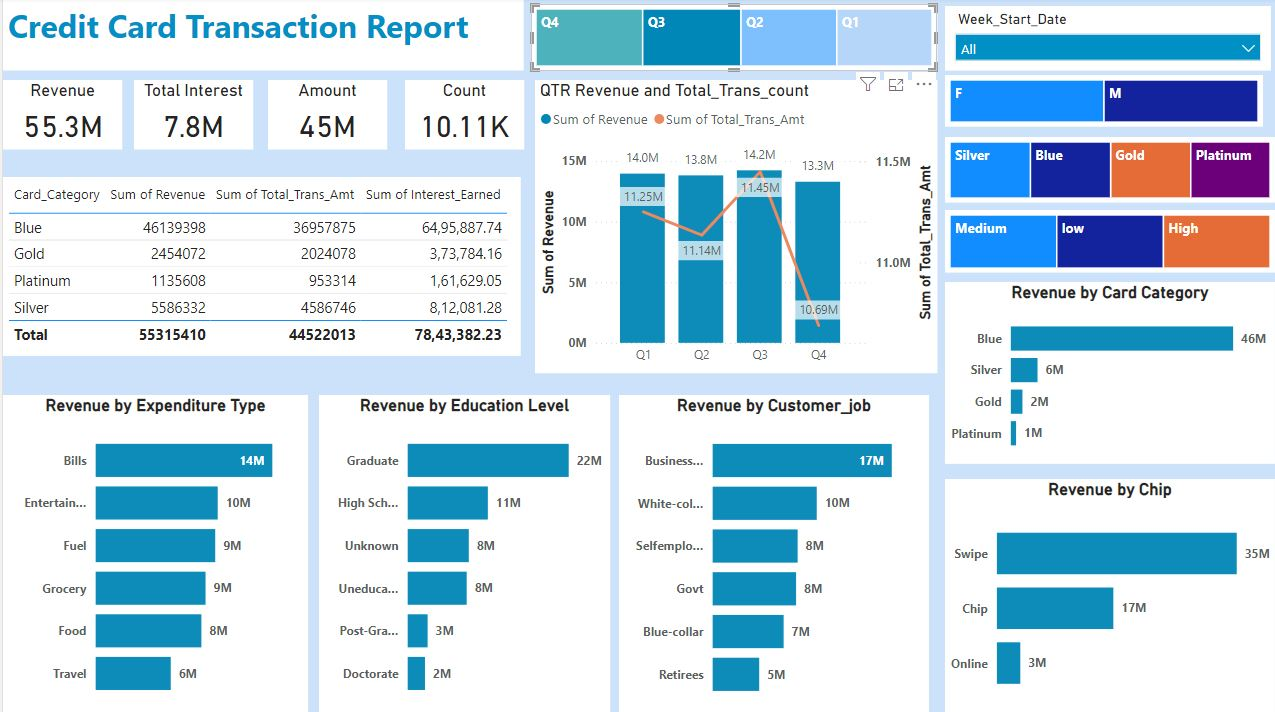

The dashboard page shown, as its layout file describes it:
{"tool":"powerbi","page":{"name":"CC Transaction","canvas":[1280,720],"ordinal":1},"visuals":[{"type":"textbox","box":[0,0,524.3,73.5],"z":0},{"type":"lineStackedColumnComboChart","title":"QTR Revenue and Total_Trans_count","fields":{"Category":["cc_detail.Qtr"],"Y":["Sum(cc_detail.Revenue)"],"Y2":["Sum(cc_detail.Total_Trans_Amt)"]},"box":[535.3,82.5,404.5,294.8],"z":1000},{"type":"barChart","title":"Revenue by Expenditure Type","fields":{"Y":["Sum(cc_detail.Revenue)"],"Category":["cc_detail.Exp Type"]},"box":[0,399.5,306.9,320],"z":2000},{"type":"barChart","title":"Revenue by Education Level","fields":{"Y":["Sum(cc_detail.Revenue)"],"Category":["cust_detail csv.Education_Level"]},"box":[318,399.5,292.8,320],"z":3000},{"type":"barChart","title":"Revenue by Customer_job","fields":{"Y":["Sum(cc_detail.Revenue)"],"Category":["cust_detail csv.Customer_Job"]},"box":[619.9,399.5,311.9,321],"z":4000},{"type":"barChart","title":"Revenue by Chip","fields":{"Y":["Sum(cc_detail.Revenue)"],"Category":["cc_detail.Use Chip"]},"box":[947.9,484,332.1,235.5],"z":5000},{"type":"barChart","title":"Revenue by Card Category","fields":{"Y":["Sum(cc_detail.Revenue)"],"Category":["cc_detail.Card_Category"]},"box":[947.9,285.8,332.1,183.1],"z":6000},{"type":"tableEx","fields":{"Values":["cc_detail.Card_Category","Sum(cc_detail.Revenue)","Sum(cc_detail.Total_Trans_Amt)","Sum(cc_detail.Interest_Earned)"]},"box":[0,180.1,521.3,180.1],"z":7000},{"type":"card","title":"Revenue","fields":{"Values":["Sum(cc_detail.Revenue)"]},"box":[0,82.5,120,70],"z":8000},{"type":"card","title":"Total Interest","fields":{"Values":["Sum(cc_detail.Interest_Earned)"]},"box":[131.8,82.5,119.7,70.4],"z":9000},{"type":"card","title":"Count","fields":{"Values":["CountNonNull(cc_detail.Total_Trans_Amt)"]},"box":[404.5,82.5,119.7,70.4],"z":10000},{"type":"card","title":"Amount","fields":{"Values":["Sum(cc_detail.Total_Trans_Amt)"]},"box":[266.7,82.5,119.7,70.4],"z":11000},{"type":"slicer","fields":{"Values":["cc_detail.Week_Start_Date"]},"box":[947.9,8.1,328.1,65.4],"z":12000},{"type":"treemap","fields":{"Group":["cc_detail.Qtr"],"Values":["Avg(cc_detail.Client_Num)"]},"box":[531.3,6,408.6,67.4],"z":13000},{"type":"treemap","fields":{"Group":["cust_detail csv.Gender"],"Values":["Avg(cc_detail.Client_Num)"]},"box":[947.9,77.5,320,52.3],"z":14000},{"type":"treemap","fields":{"Values":["Avg(cc_detail.Client_Num)"],"Group":["cc_detail.Card_Category"]},"box":[947.9,139.9,332.1,66.4],"z":15000},{"type":"treemap","fields":{"Values":["Avg(cc_detail.Client_Num)"],"Group":["cust_detail csv.IncomeGroup"]},"box":[947.9,213.3,332.1,63.4],"z":16000}]}

Visuals, with their boxes in screenshot pixels (x1, y1, x2, y2), scaled from the page's 1280x720 canvas onto the 1275x712 screenshot:
textbox: [0, 0, 522, 73]
"QTR Revenue and Total_Trans_count" lineStackedColumnComboChart: [533, 82, 936, 373]
"Revenue by Expenditure Type" barChart: [0, 395, 306, 711]
"Revenue by Education Level" barChart: [317, 395, 608, 711]
"Revenue by Customer_job" barChart: [617, 395, 928, 711]
"Revenue by Chip" barChart: [944, 479, 1274, 711]
"Revenue by Card Category" barChart: [944, 283, 1274, 464]
tableEx - cc_detail.Card_Category x Sum(cc_detail.Revenue): [0, 178, 519, 356]
"Revenue" card: [0, 82, 120, 151]
"Total Interest" card: [131, 82, 251, 151]
"Count" card: [403, 82, 522, 151]
"Amount" card: [266, 82, 385, 151]
slicer - cc_detail.Week_Start_Date: [944, 8, 1271, 73]
treemap - cc_detail.Qtr x Avg(cc_detail.Client_Num): [529, 6, 936, 73]
treemap - cust_detail csv.Gender x Avg(cc_detail.Client_Num): [944, 77, 1263, 128]
treemap - Avg(cc_detail.Client_Num) x cc_detail.Card_Category: [944, 138, 1274, 204]
treemap - Avg(cc_detail.Client_Num) x cust_detail csv.IncomeGroup: [944, 211, 1274, 274]
